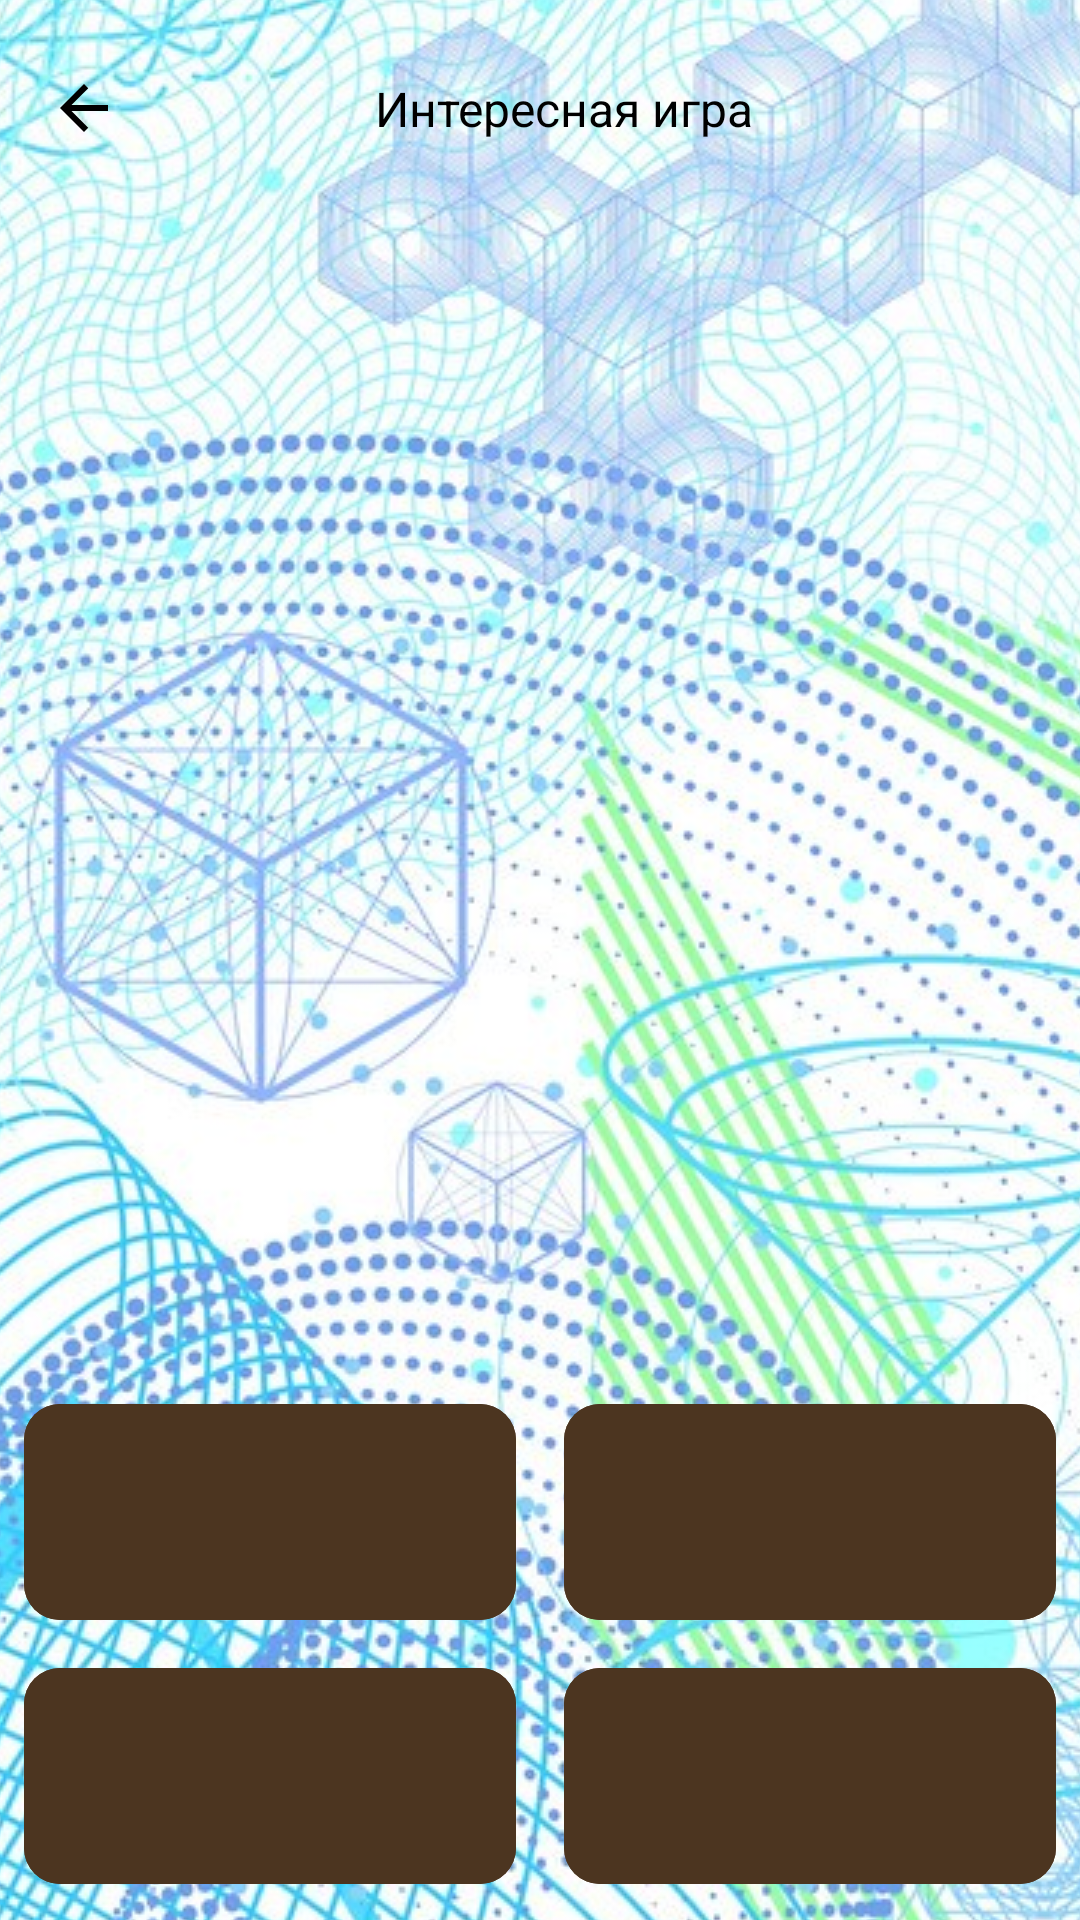

Icon click points for this 1080*1920 phone screenshot, format point (x, y):
back: point (84, 108)
